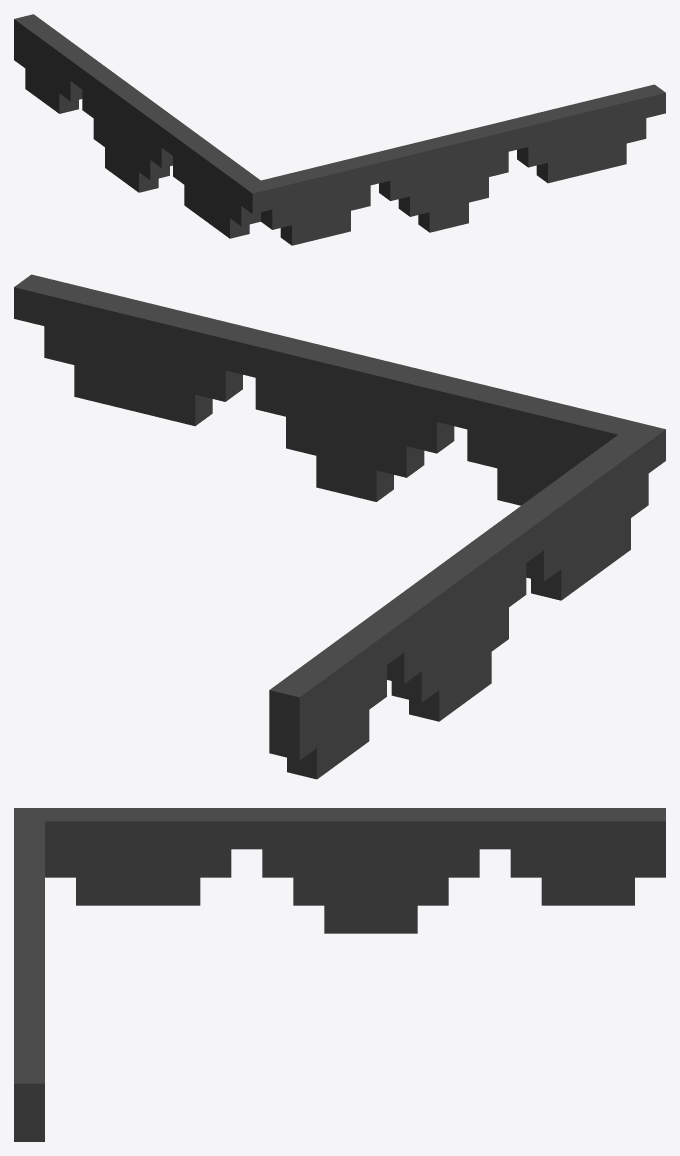
Rendered from ledgeSnowTwoSide.obj.
The picture shows the model from 3 angles, top to bottom: view 1: azimuth 30°, elevation 25°; view 2: azimuth 150°, elevation 25°; view 3: azimuth 270°, elevation 25°; orthographic projection. The views are drawn at different scales.
Size of the model in its own units: 2.1 by 0.4 by 2.1.
